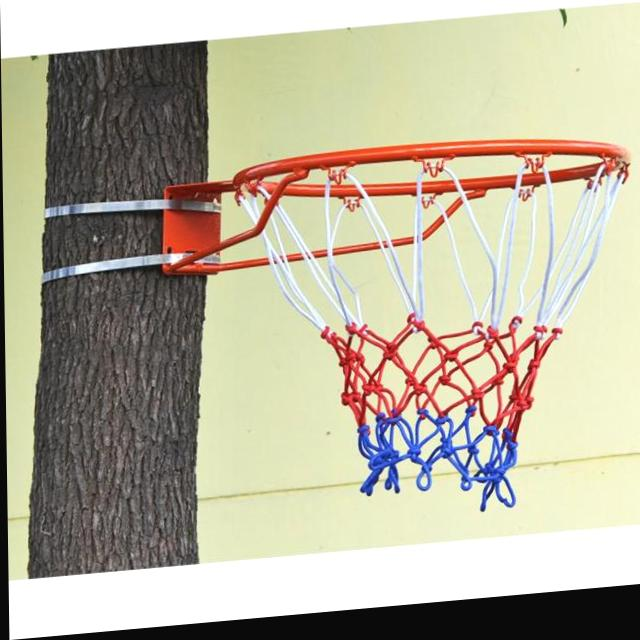Basketball: (234, 125, 637, 534)
